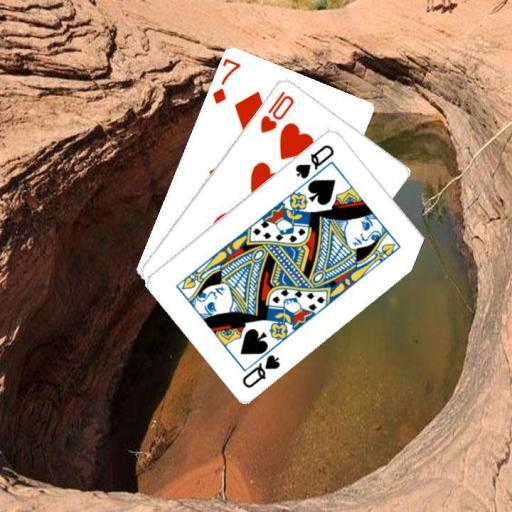10H: (257, 88, 296, 135)
7D: (209, 56, 243, 106)
QS: (292, 141, 336, 180), (238, 351, 282, 389)
